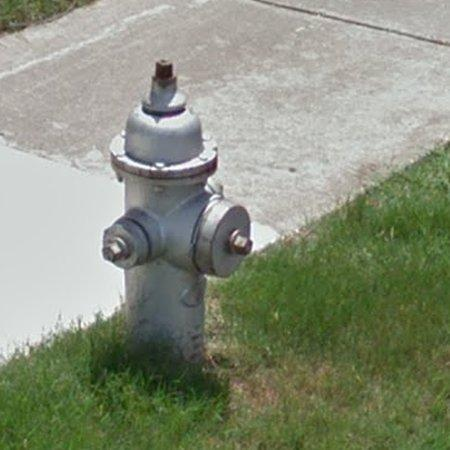a fire hydrant: (102, 60, 252, 363)
